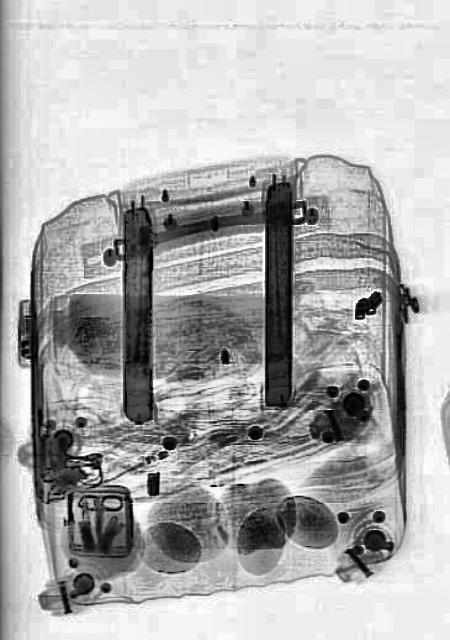Scissors: (74, 494, 122, 542)
